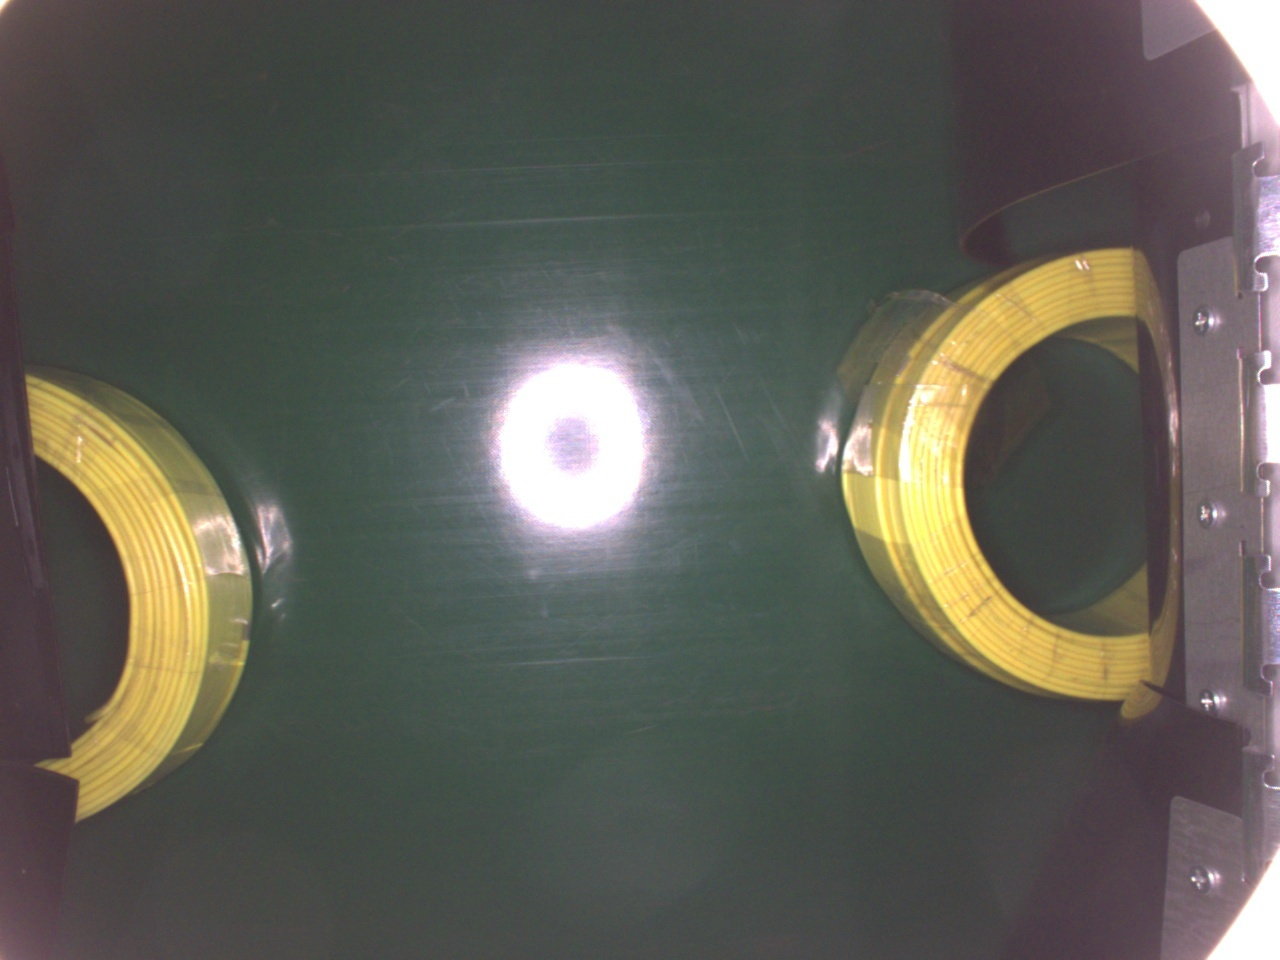yellow: (837, 239, 1150, 707), (26, 358, 258, 820)
